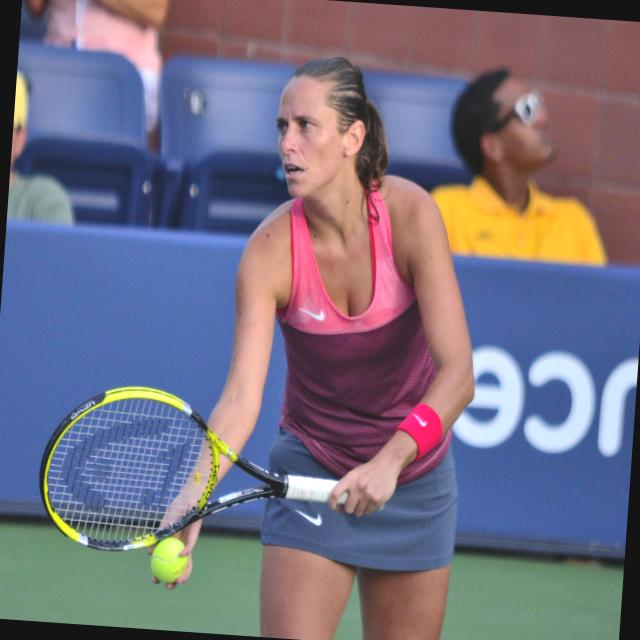Tennis Ball: (149, 534, 190, 581)
